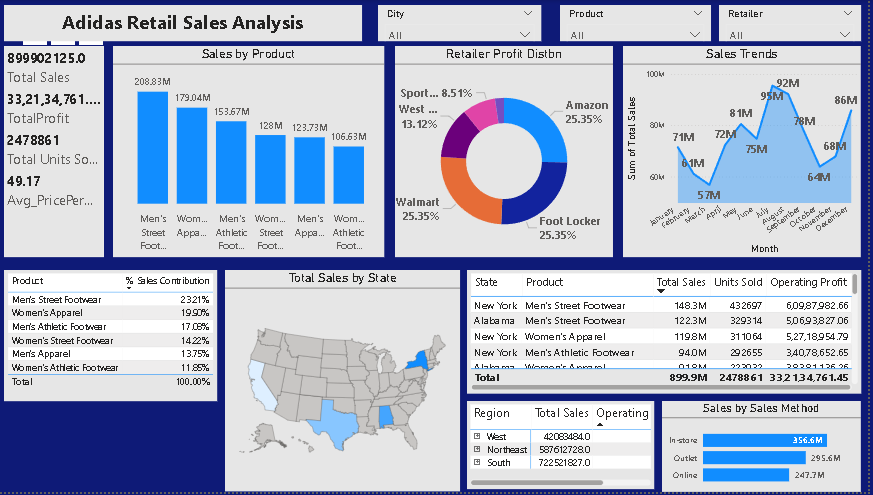

What the dashboard file says about the page in this screenshot:
{"tool":"powerbi","page":{"name":"Adidas Dashboard","canvas":[1280,720],"ordinal":0},"visuals":[{"type":"multiRowCard","title":"Business Performance","fields":{"Values":["Sum(Sales.Total Sales)","Sales.TotalProfit","Sum(Sales.Units Sold)","Retailer.Avg_PricePerUnit"]},"box":[14.6,67.3,146.3,308.8],"z":0},{"type":"clusteredColumnChart","title":"Sales by Product","fields":{"Category":["Products.Product"],"Y":["Retailer.Total_SaleAmt"]},"box":[174.1,67.3,396.6,308.8],"z":1000},{"type":"donutChart","title":" Retailer Profit Distbn","fields":{"Category":["Retailer.Retailer"],"Y":["Sales.TotalProfit"]},"box":[586.8,67.3,319,308.8],"z":2000},{"type":"areaChart","title":"Sales Trends","fields":{"Category":["Date.Invoice Date.Variation.Date Hierarchy.Year","Date.Invoice Date.Variation.Date Hierarchy.Quarter","Date.Invoice Date.Variation.Date Hierarchy.Month","Date.Invoice Date.Variation.Date Hierarchy.Day"],"Y":["Sum(Sales.Total Sales)"]},"box":[920.5,67.3,348.3,308.8],"z":3000},{"type":"tableEx","fields":{"Values":["Products.Product","Sum(Sales.Total Sales)"]},"box":[14.6,395.1,311.7,191.7],"z":4000},{"type":"clusteredBarChart","title":"Sales by Sales Method","fields":{"Category":["Sales.Sales Method"],"Y":["Sum(Sales.Total Sales)"]},"box":[977.1,587.1,291.4,132.9],"z":5000},{"type":"shapeMap","title":"Total Sales by State","fields":{"Category":["Retailer.State"],"Value":["Sum(Sales.Total Sales)"]},"box":[338.6,395.7,344.3,324.3],"z":6000},{"type":"pivotTable","fields":{"Rows":["Retailer.Region","Retailer.City"],"Values":["Sum(Sales.Total Sales)","Sum(Sales.Operating Margin)"]},"box":[692.2,586.8,273.7,128.8],"z":7000},{"type":"slicer","fields":{"Values":["Retailer.Retailer"]},"box":[1061,7.3,207.8,52.7],"z":8000},{"type":"slicer","fields":{"Values":["Products.Product"]},"box":[828.3,7.3,221,52.7],"z":9000},{"type":"textbox","box":[14.6,7.3,523.9,52.7],"z":10000},{"type":"slicer","fields":{"Values":["Retailer.City"]},"box":[562,7.3,238.5,52.7],"z":11000},{"type":"tableEx","fields":{"Values":["Retailer.State","Retailer.Total_SaleAmt","Date.All_Sales","Date.% Sales Share"]},"box":[695.7,395.7,572.9,174.3],"z":12000}]}

Visuals, with their boxes in screenshot pixels (x1, y1, x2, y2), scaled from the page's 1280x720 canvas onto the 873x495 screenshot:
"Business Performance" multiRowCard: <bbox>10, 46, 110, 259</bbox>
"Sales by Product" clusteredColumnChart: <bbox>119, 46, 389, 259</bbox>
" Retailer Profit Distbn" donutChart: <bbox>400, 46, 618, 259</bbox>
"Sales Trends" areaChart: <bbox>628, 46, 865, 259</bbox>
tableEx - Products.Product x Sum(Sales.Total Sales): <bbox>10, 272, 223, 403</bbox>
"Sales by Sales Method" clusteredBarChart: <bbox>666, 404, 865, 494</bbox>
"Total Sales by State" shapeMap: <bbox>231, 272, 466, 494</bbox>
pivotTable - Retailer.Region x Retailer.City: <bbox>472, 403, 659, 492</bbox>
slicer - Retailer.Retailer: <bbox>724, 5, 865, 41</bbox>
slicer - Products.Product: <bbox>565, 5, 716, 41</bbox>
textbox: <bbox>10, 5, 367, 41</bbox>
slicer - Retailer.City: <bbox>383, 5, 546, 41</bbox>
tableEx - Retailer.State x Retailer.Total_SaleAmt: <bbox>474, 272, 865, 392</bbox>
